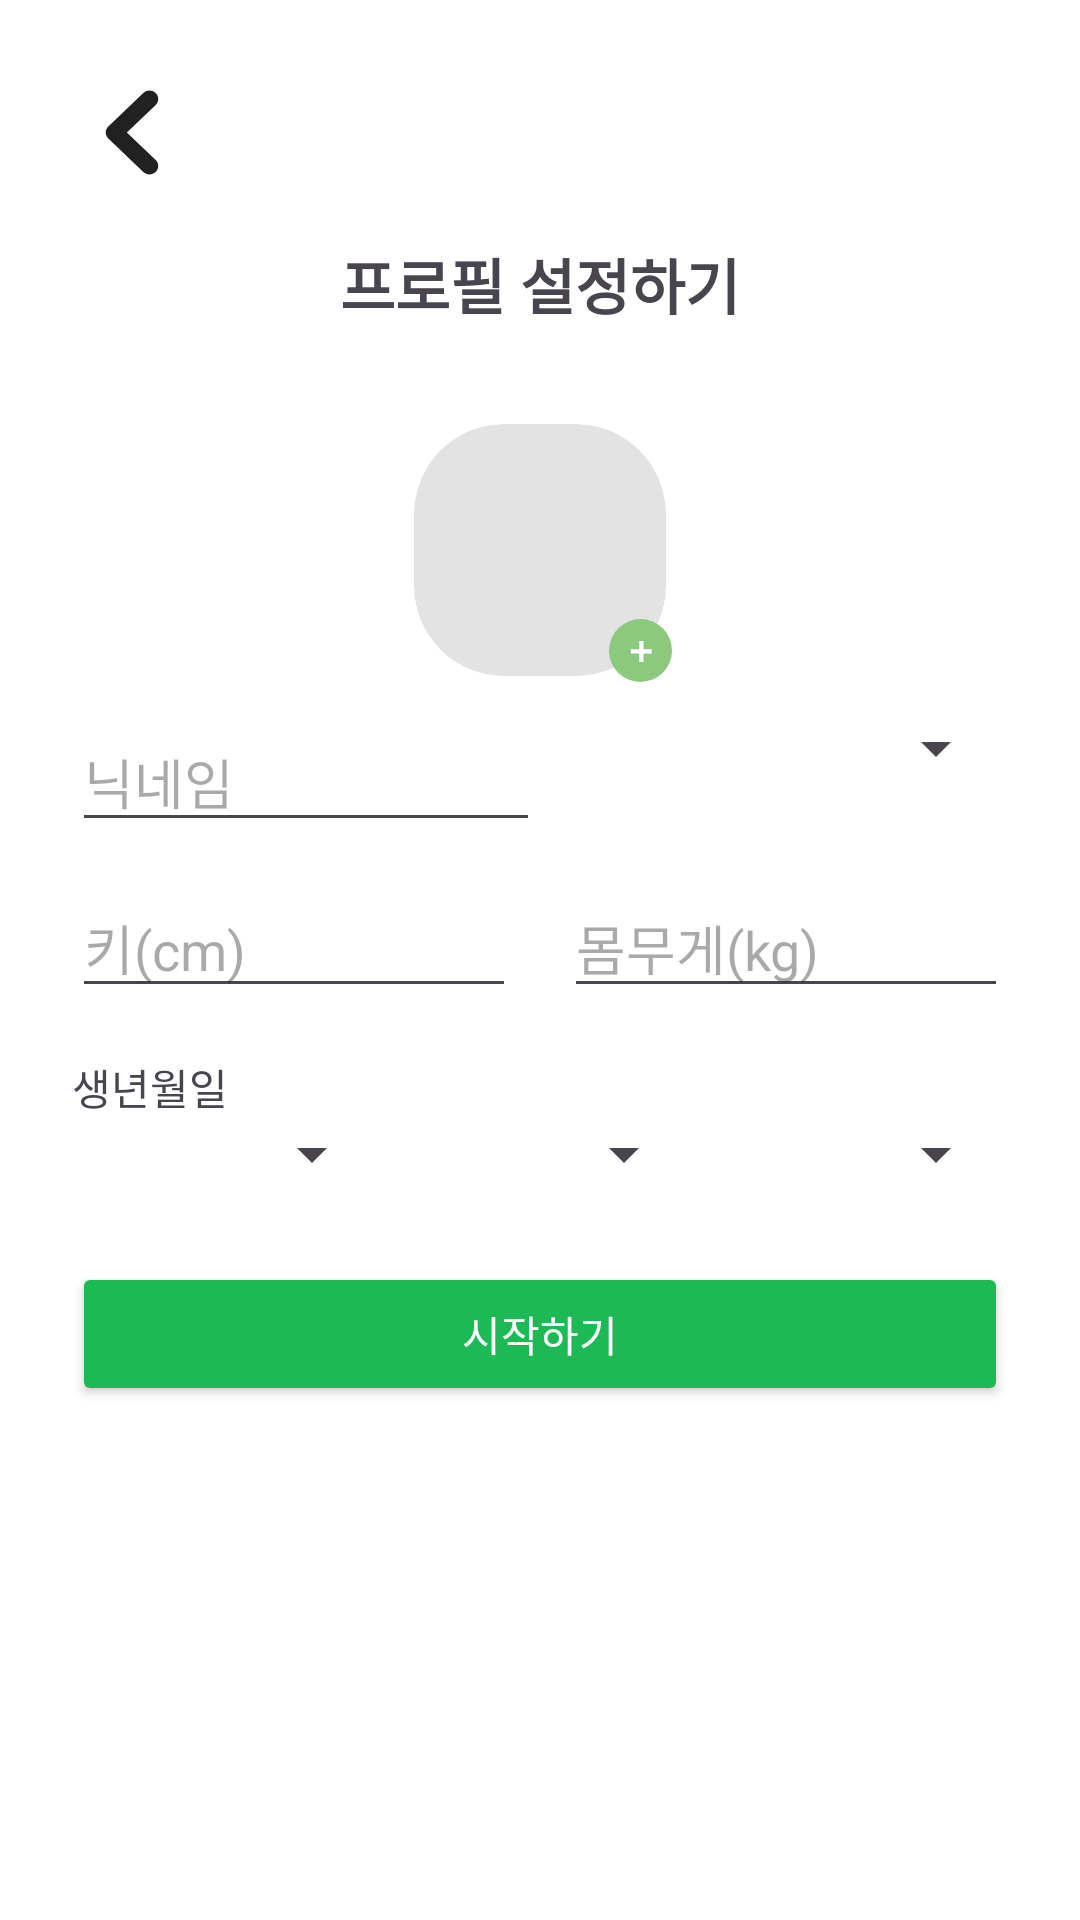

Named icons in this screenshot (1080px x 1920px) and their centers, (x=x, y=y):
뒤로가기: (x=132, y=132)
프로필 이미지 추가: (x=640, y=650)
